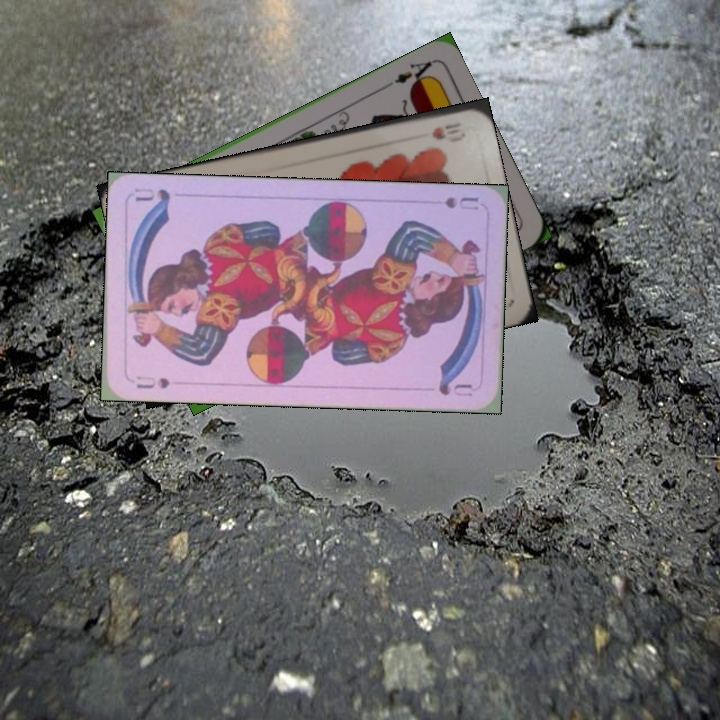EA: (381, 56, 437, 91)
H10: (427, 118, 464, 143)
SU: (132, 372, 172, 392), (440, 193, 481, 212)
